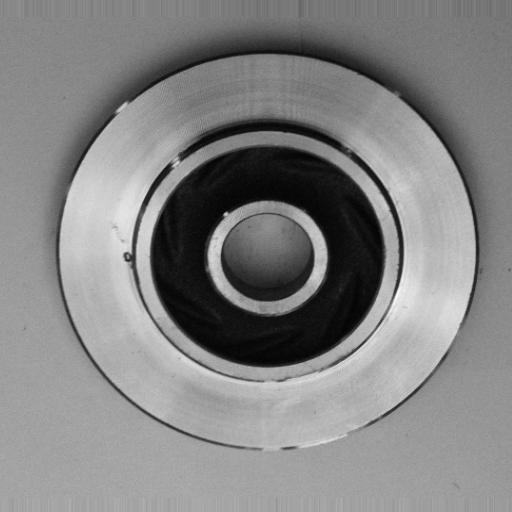crack: (120, 238, 146, 294)
scratch: (240, 359, 337, 408), (162, 147, 198, 186)
unpolished_casting: (54, 52, 480, 457)
